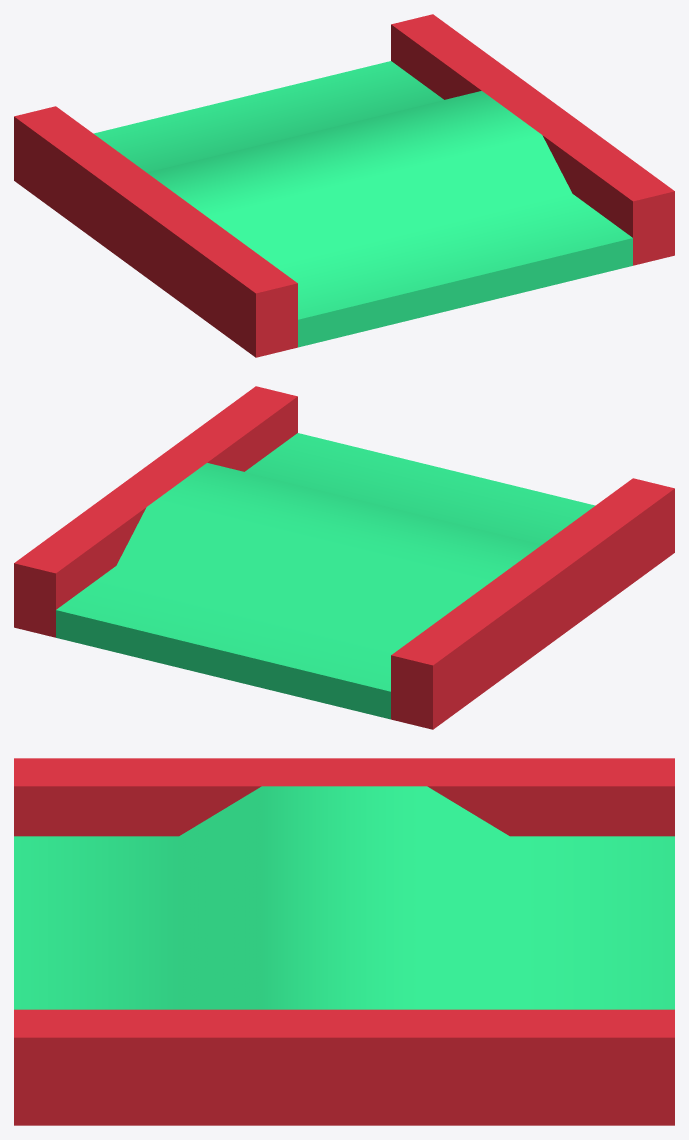
Rendered from hillSquare.fbx.
3 renders of one model, top to bottom at view 1: azimuth 30°, elevation 25°; view 2: azimuth 150°, elevation 25°; view 3: azimuth 270°, elevation 25°, orthographic. The views are drawn at different scales.
Parts seen in each view (by area): view 1: hillSquare; view 2: hillSquare; view 3: hillSquare.
Boxes of the visible parts, bbox=[...] form: hillSquare: bbox=[14, 14, 674, 357]; hillSquare: bbox=[14, 386, 674, 729]; hillSquare: bbox=[14, 758, 674, 1125].
Size of the model in its own units: 10 by 1.47 by 10.
